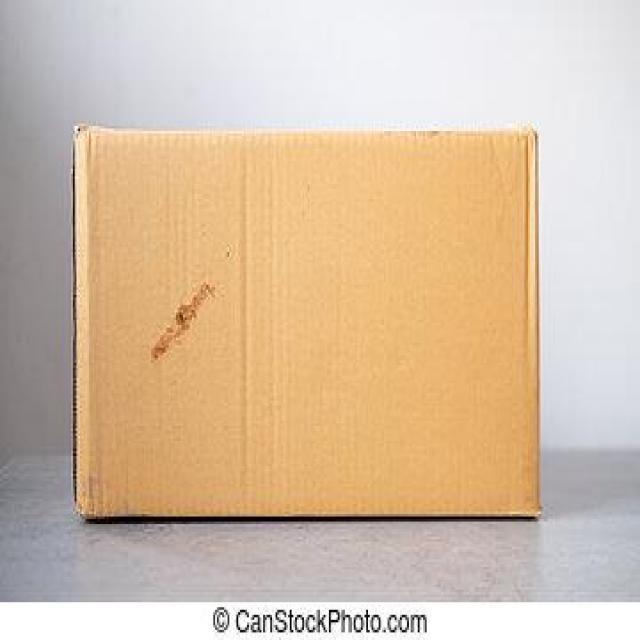box: (56, 102, 548, 531)
